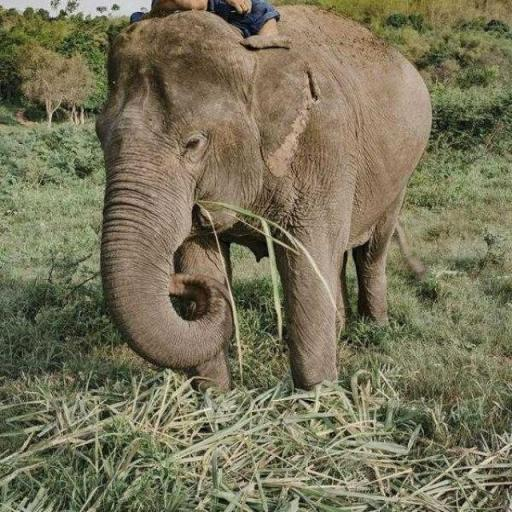Elephant: (94, 2, 432, 398)
